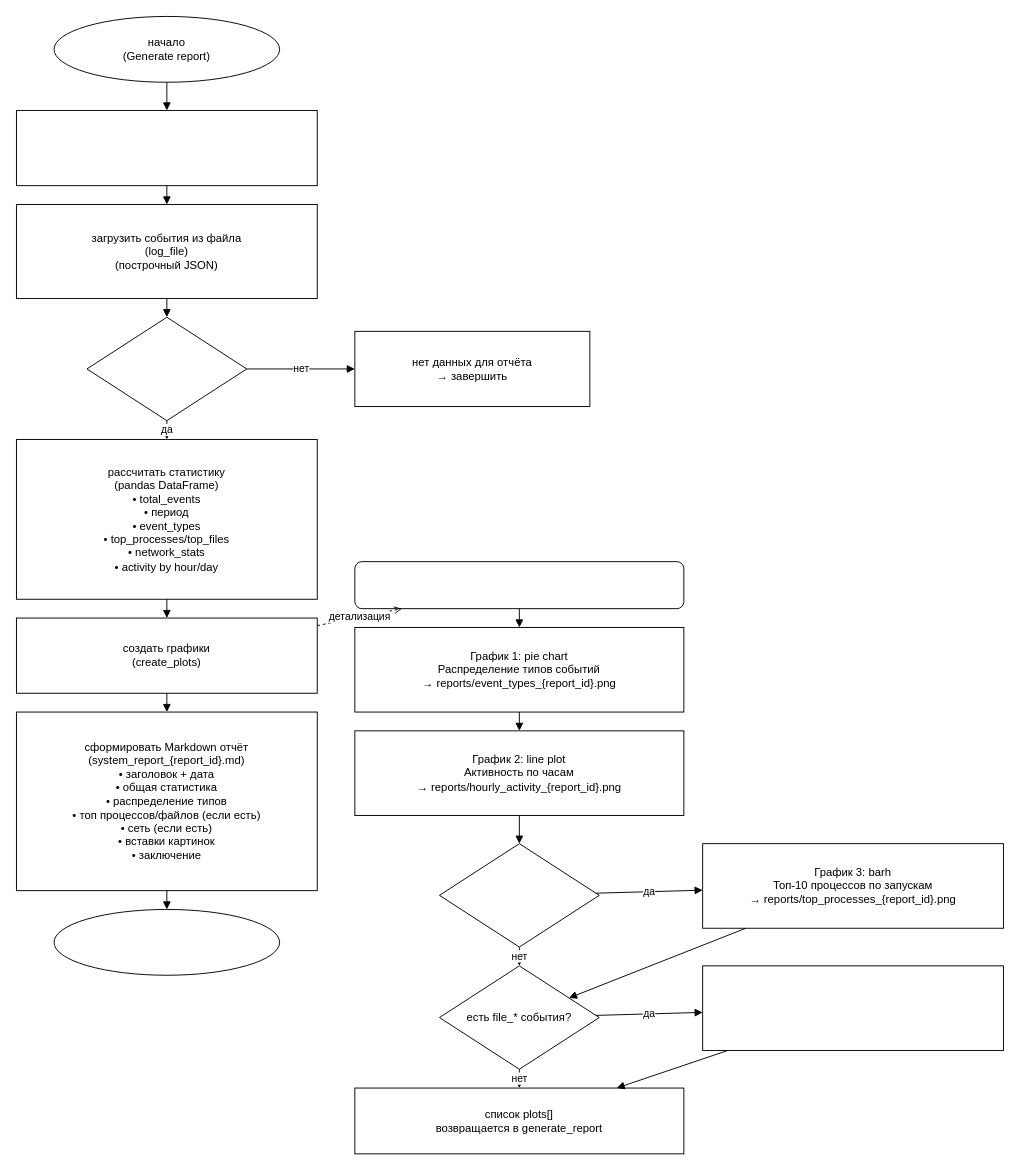
This 1020x1170 diagram has some shape labels left out. Each missing label, with the centre of its shape:
"create_plots(events, report_id)" goes at (519,585).
"График 4: barh Топ-10 файлов по изменениям → reports/top_files_{report_id}.png" goes at (852,1007).
"есть события process_start?" goes at (519,895).
"конец (файл отчёта создан)" goes at (166,942).
"определить report_id (по времени, если не задан)" goes at (166,148).
"события найдены?" goes at (166,368).
